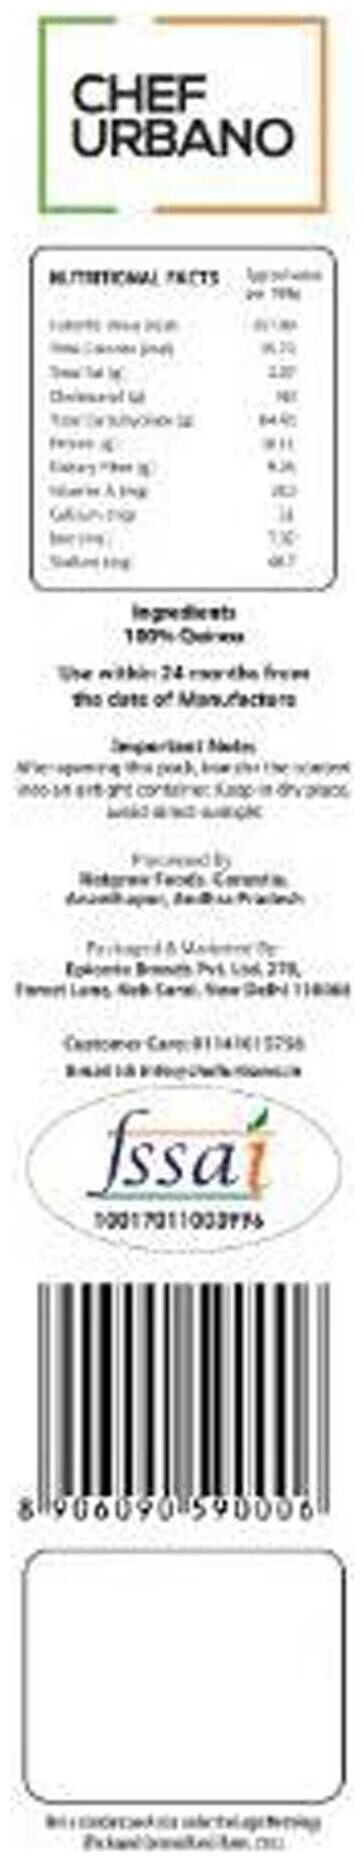fssai: (83, 1102, 280, 1199)
